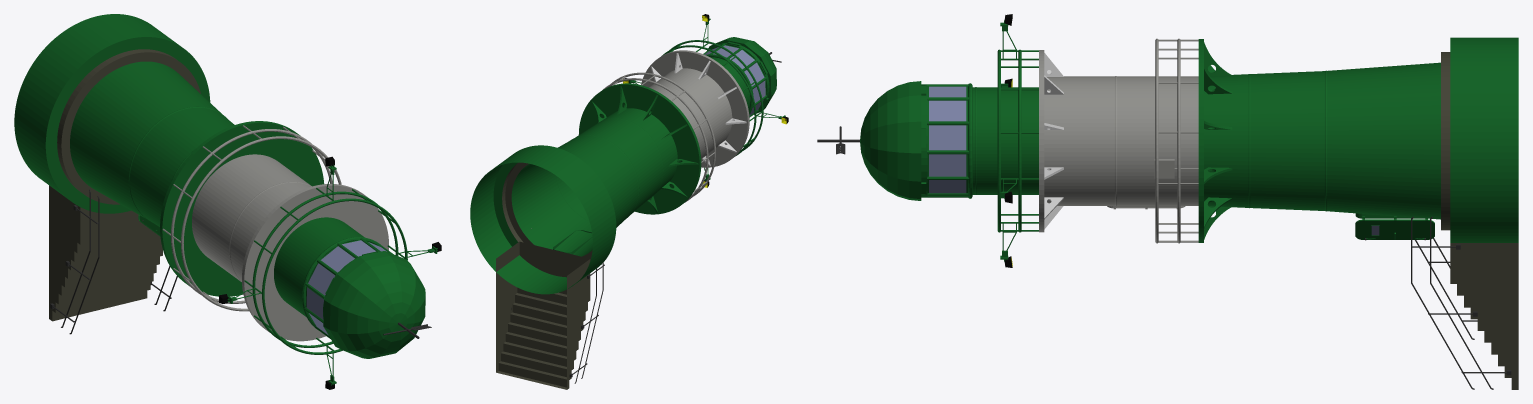
The model's file is lighthouse.obj.
The picture shows the model from 3 angles, left to right: view 1: azimuth 30°, elevation 25°; view 2: azimuth 150°, elevation 25°; view 3: azimuth 270°, elevation 25°; orthographic projection. The views are drawn at different scales.
Visible parts, largest first — view 1: Base_Cylinder.002, Staircase_Cube.002, Roof_Sphere.001, Windows_Cylinder, Handrail_Lower_2_BezierCircle.002, Handrail_Upper_2_BezierCircle.004, Handrail_Lower_1_BezierCircle, Handrail_Upper_1_BezierCircle.003, Lamps_Cylinder.012, Staircase_Handrails_BezierCurve, Windows_Base_Torus.003, Handrail_Upper_Holders_Cylinder.009; view 2: Base_Cylinder.002, Staircase_Cube.002, Windows_Cylinder, Roof_Sphere.001, Platform_Lower_Supports_Mesh, Platform_Upper_Supports_Plane.003, Handrail_Lower_1_BezierCircle, Handrail_Lower_2_BezierCircle.002, Handrail_Upper_1_BezierCircle.003, Handrail_Upper_2_BezierCircle.004, Lamps_Cylinder.012, Staircase_Handrails_BezierCurve (+1 smaller); view 3: Base_Cylinder.002, Staircase_Cube.002, Roof_Sphere.001, Windows_Cylinder, Platform_Lower_Supports_Mesh, Door_Lower_Cube, Platform_Upper_Supports_Plane.003, Staircase_Handrails_BezierCurve, Handrail_Lower_Holders_Cylinder.010, Handrail_Lower_2_BezierCircle.002, Handrail_Lower_1_BezierCircle, Lamps_Cylinder.012 (+3 smaller).
Boxes of the visible parts, <box> form: Base_Cylinder.002: <box>14,14,388,341</box>; Staircase_Cube.002: <box>49,185,162,321</box>; Roof_Sphere.001: <box>323,251,425,358</box>; Windows_Cylinder: <box>304,237,393,338</box>; Handrail_Lower_2_BezierCircle.002: <box>181,136,341,311</box>; Handrail_Upper_2_BezierCircle.004: <box>262,198,407,354</box>; Handrail_Lower_1_BezierCircle: <box>171,129,332,303</box>; Handrail_Upper_1_BezierCircle.003: <box>252,191,398,347</box>; Lamps_Cylinder.012: <box>219,156,441,389</box>; Staircase_Handrails_BezierCurve: <box>61,189,177,334</box>; Windows_Base_Torus.003: <box>302,237,381,328</box>; Handrail_Upper_Holders_Cylinder.009: <box>244,188,404,350</box>; Base_Cylinder.002: <box>470,50,750,294</box>; Staircase_Cube.002: <box>496,241,590,389</box>; Windows_Cylinder: <box>703,43,767,117</box>; Roof_Sphere.001: <box>707,37,776,113</box>; Platform_Lower_Supports_Mesh: <box>591,86,698,213</box>; Platform_Upper_Supports_Plane.003: <box>650,53,746,166</box>; Handrail_Lower_1_BezierCircle: <box>603,78,708,202</box>; Handrail_Lower_2_BezierCircle.002: <box>611,72,715,196</box>; Handrail_Upper_1_BezierCircle.003: <box>662,45,756,155</box>; Handrail_Upper_2_BezierCircle.004: <box>670,40,763,150</box>; Lamps_Cylinder.012: <box>623,14,788,187</box>; Staircase_Handrails_BezierCurve: <box>574,262,603,383</box>; Base_Cylinder.002: <box>972,37,1518,242</box>; Staircase_Cube.002: <box>1450,243,1518,389</box>; Roof_Sphere.001: <box>860,81,921,200</box>; Windows_Cylinder: <box>927,84,969,197</box>; Platform_Lower_Supports_Mesh: <box>1204,42,1232,239</box>; Door_Lower_Cube: <box>1355,218,1434,239</box>; Platform_Upper_Supports_Plane.003: <box>1044,53,1063,229</box>; Staircase_Handrails_BezierCurve: <box>1411,217,1493,389</box>; Handrail_Lower_Holders_Cylinder.010: <box>1158,39,1198,242</box>; Handrail_Lower_2_BezierCircle.002: <box>1155,38,1158,243</box>; Handrail_Lower_1_BezierCircle: <box>1177,38,1180,243</box>; Lamps_Cylinder.012: <box>1000,14,1016,267</box>.
Bounding box in the file's own units: 5.96 × 8.32 × 15.14.
